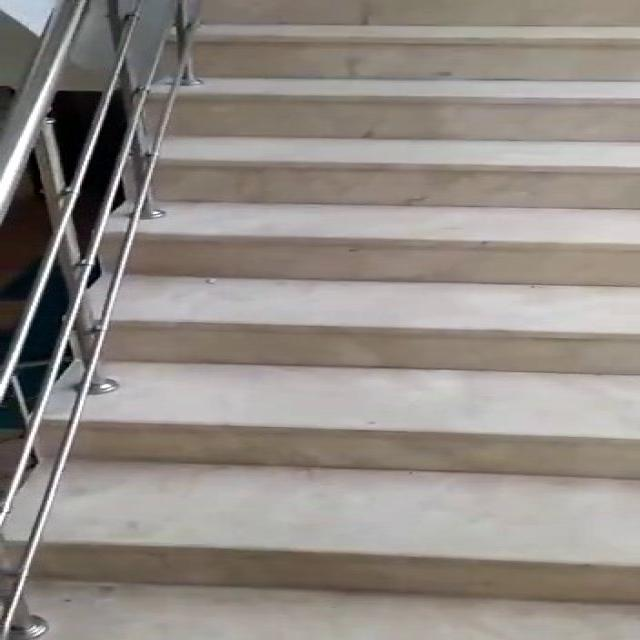upstair: (46, 5, 640, 599)
